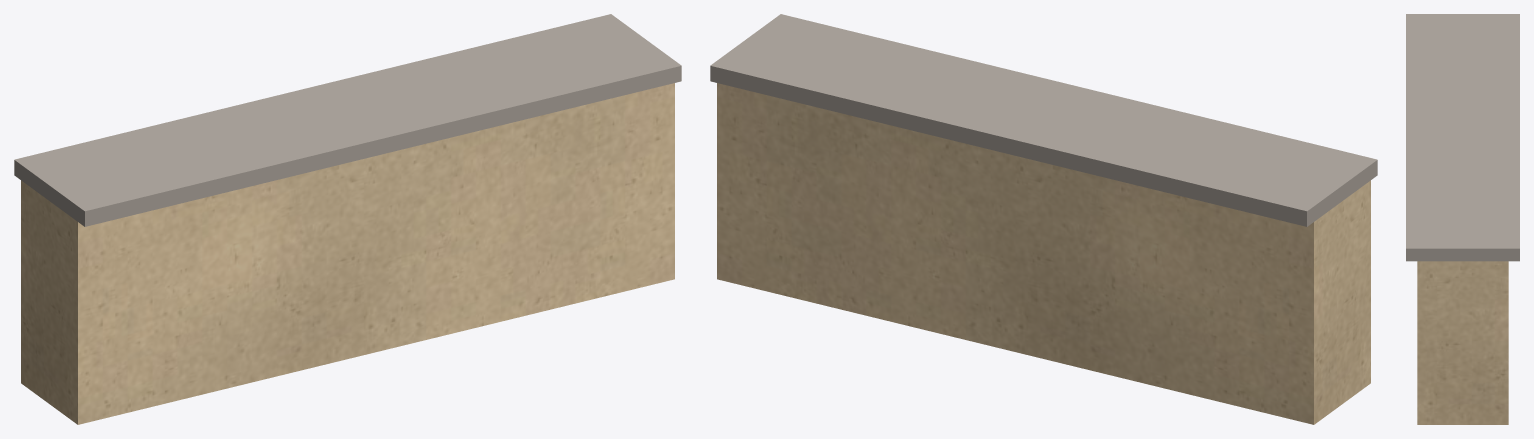
Rendered from skylight_curb.glb.
The picture shows the model from 3 angles, left to right: view 1: azimuth 30°, elevation 25°; view 2: azimuth 150°, elevation 25°; view 3: azimuth 270°, elevation 25°; orthographic projection. The views are drawn at different scales.
Visible parts, largest first — view 1: skylight_curb_render, skylight_curb_coping; view 2: skylight_curb_render, skylight_curb_coping; view 3: skylight_curb_coping, skylight_curb_render.
Part boxes in pixels (box(x1,y1,x2,y2)): skylight_curb_render: box(21, 83, 674, 424); skylight_curb_coping: box(14, 14, 681, 226); skylight_curb_render: box(717, 83, 1370, 424); skylight_curb_coping: box(710, 14, 1377, 226); skylight_curb_coping: box(1406, 14, 1519, 261); skylight_curb_render: box(1417, 261, 1508, 424).
Bounding box in the file's own units: 2 × 0.7 × 0.41.
2 materials, 1 textured.
